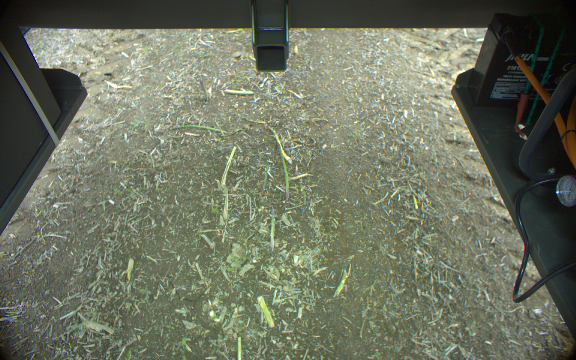aspa: (275, 142, 290, 203), (254, 295, 274, 327), (333, 268, 350, 297), (268, 206, 278, 249), (223, 86, 256, 97), (260, 159, 270, 194), (198, 78, 208, 104)
